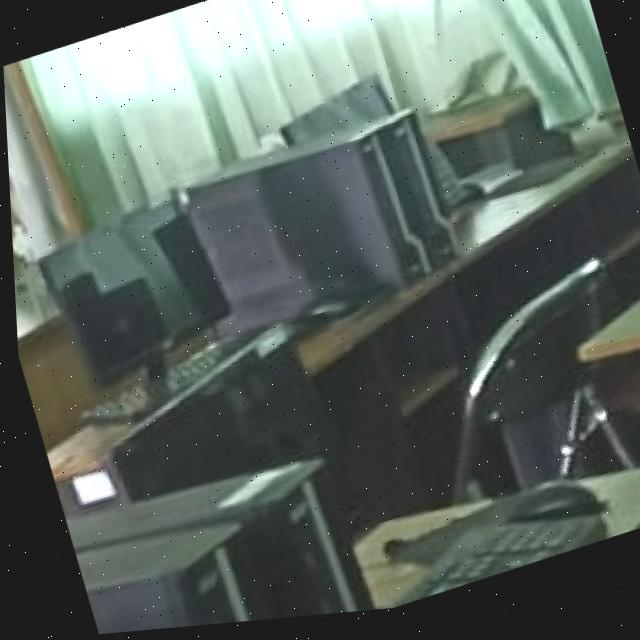offscreen: (39, 192, 225, 384)
